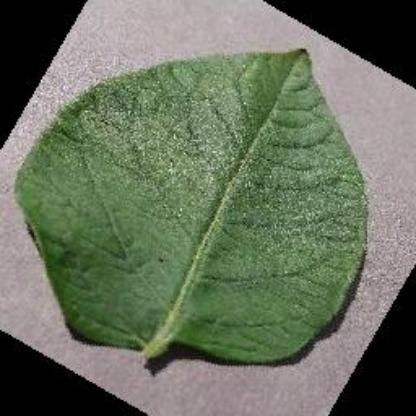Healthy-plant: (15, 43, 371, 364)
